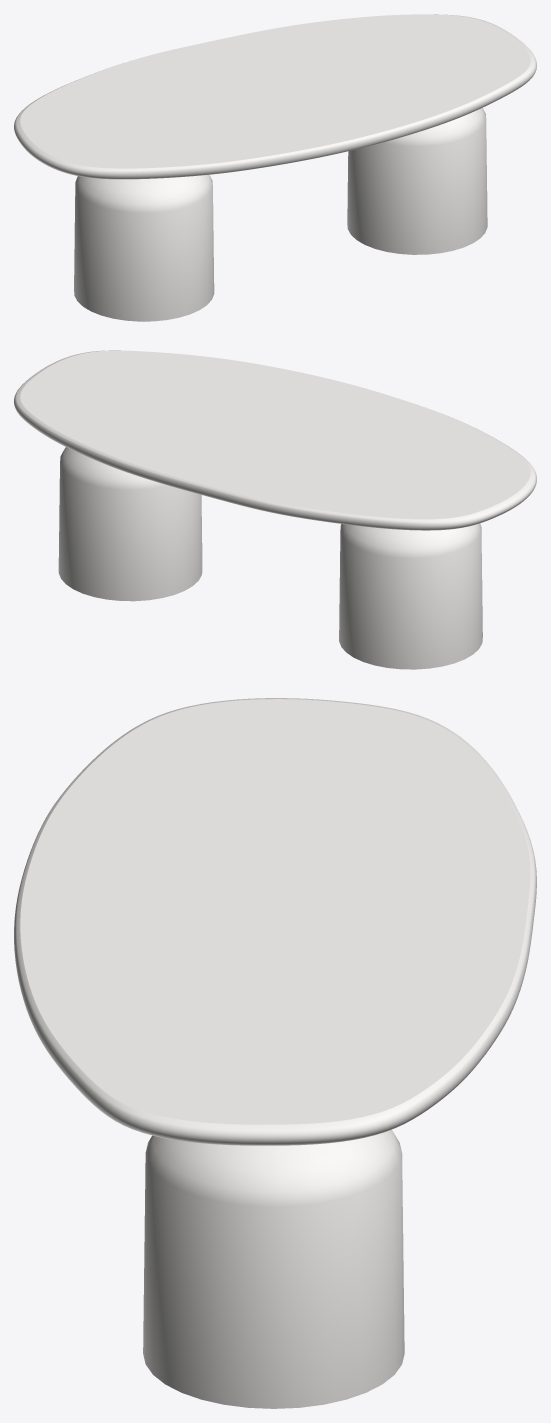
Rendered from purewhite_danish_round_tornado.glb.
3 views of the same model, one above another, from view 1: azimuth 30°, elevation 25°; view 2: azimuth 150°, elevation 25°; view 3: azimuth 270°, elevation 25° (orthographic). The views are drawn at different scales.
Parts seen in each view (by area): view 1: round_danish, tornado; view 2: round_danish, tornado; view 3: round_danish, tornado.
Part boxes in pixels (left/top/right/bottom): round_danish: left=14, top=14, right=536, bottom=179; tornado: left=74, top=108, right=487, bottom=321; round_danish: left=14, top=350, right=536, bottom=530; tornado: left=58, top=447, right=482, bottom=669; round_danish: left=14, top=698, right=536, bottom=1145; tornado: left=143, top=1129, right=404, bottom=1408.
Bounding box in the file's own units: 7.5 × 2.51 × 3.8.
1 material, 1 textured.
